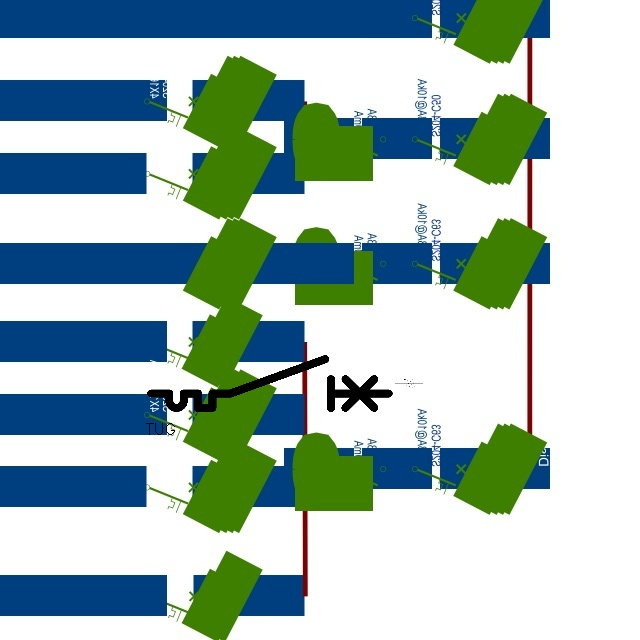interruptor_termomagnetico: (145, 353, 395, 414)
